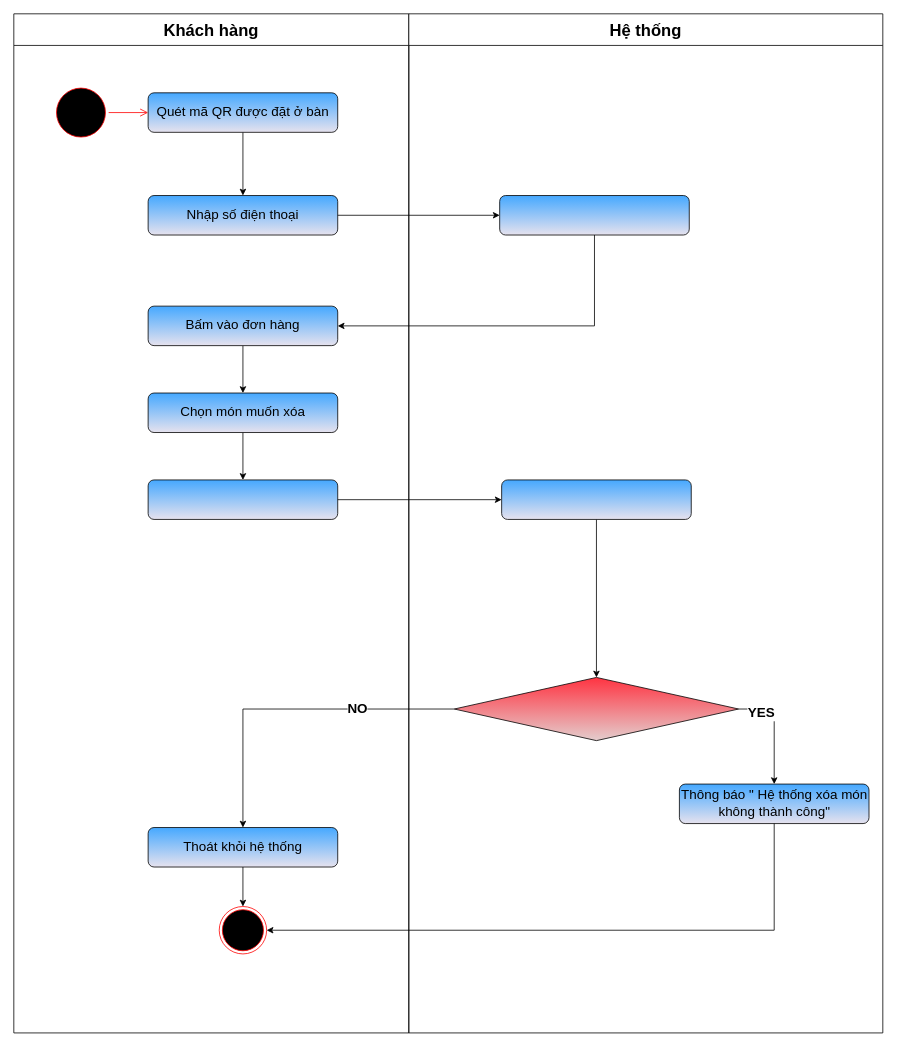
The diagram is 897 pixels wide and 1047 high, and some of its shapes have lost their labels. Each missing label, with the centre of its shape:
"Bấm hoàn thành đơn" goes at (x=242, y=499).
"Hiển thị giao diện hệ thống" goes at (x=594, y=215).
"Món đã được làm hoặc hệ thống gặp lỗi" goes at (x=596, y=709).
"Xóa món thành công" goes at (x=596, y=499).
